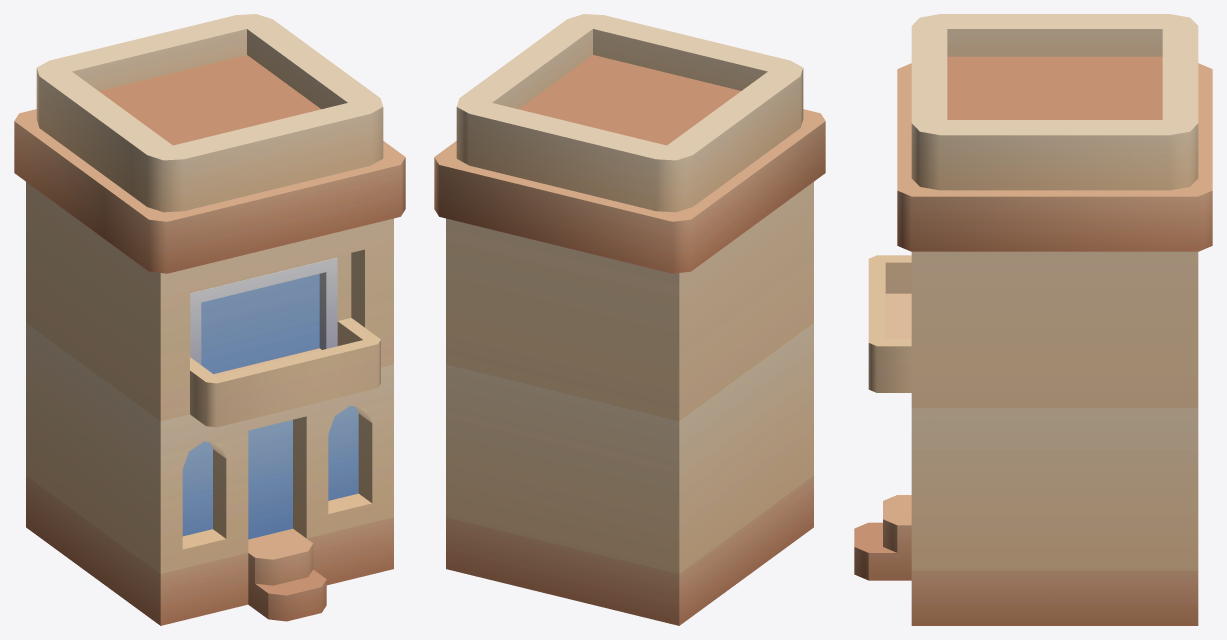
Rendered from kenney-modular-buildings-building-sample-tower-b.glb.
3 renders of one model, left to right at view 1: azimuth 30°, elevation 25°; view 2: azimuth 150°, elevation 25°; view 3: azimuth 270°, elevation 25°, orthographic. The views are drawn at different scales.
Visible parts, largest first — view 1: building-sample-tower-b; view 2: building-sample-tower-b; view 3: building-sample-tower-b.
Part boxes in pixels (<box>): building-sample-tower-b: <box>14,14,405,625</box>; building-sample-tower-b: <box>434,14,825,625</box>; building-sample-tower-b: <box>854,14,1212,625</box>.
Bounding box in the file's own units: 1.1 × 1.89 × 1.25.
Materials: 1 (1 with a texture image).
